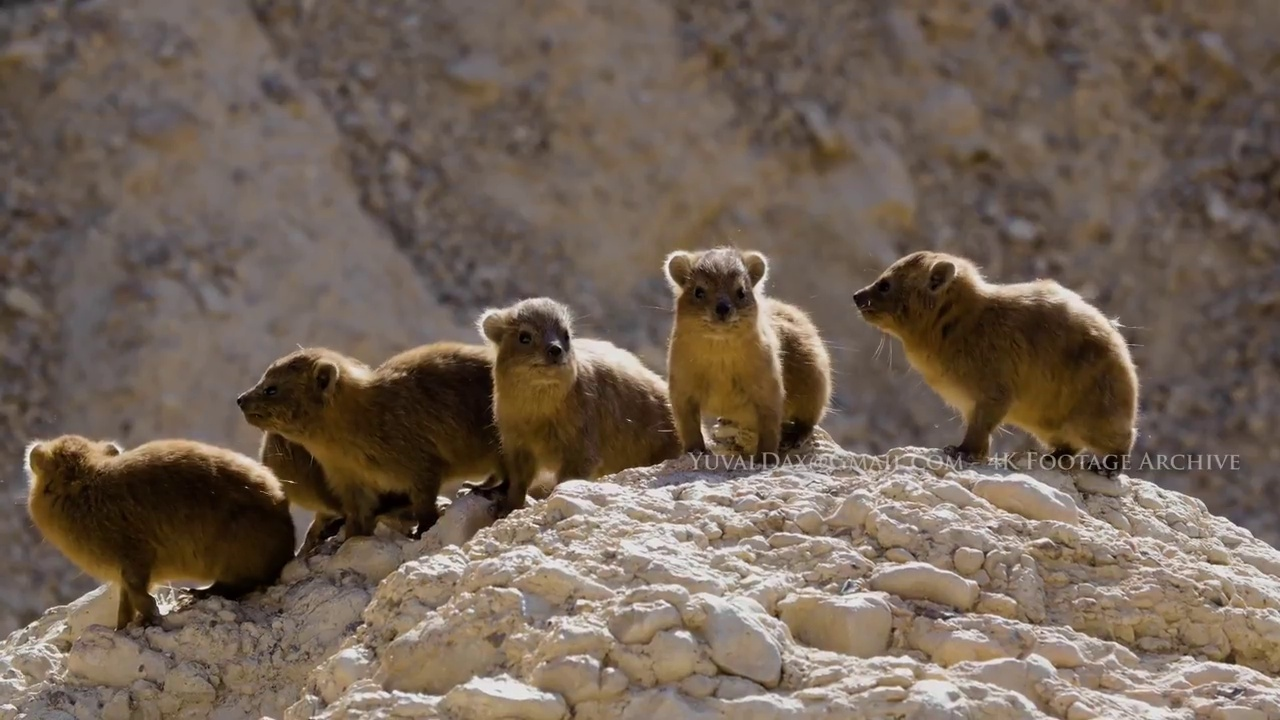Rock Hyrex: (851, 251, 1136, 483), (239, 350, 509, 544), (24, 435, 297, 624), (475, 297, 685, 500), (661, 245, 833, 477), (251, 427, 354, 558)
